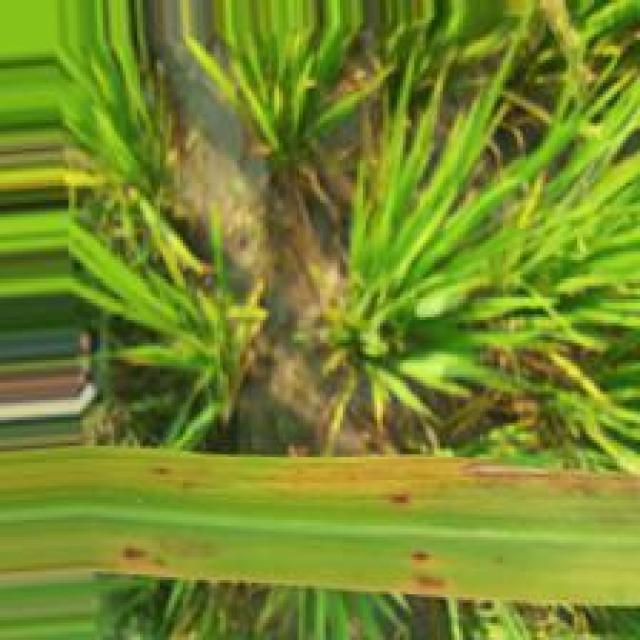Brown_Spot: (456, 462, 596, 484), (409, 571, 450, 594), (113, 543, 153, 563), (382, 491, 410, 510), (405, 551, 433, 567)
